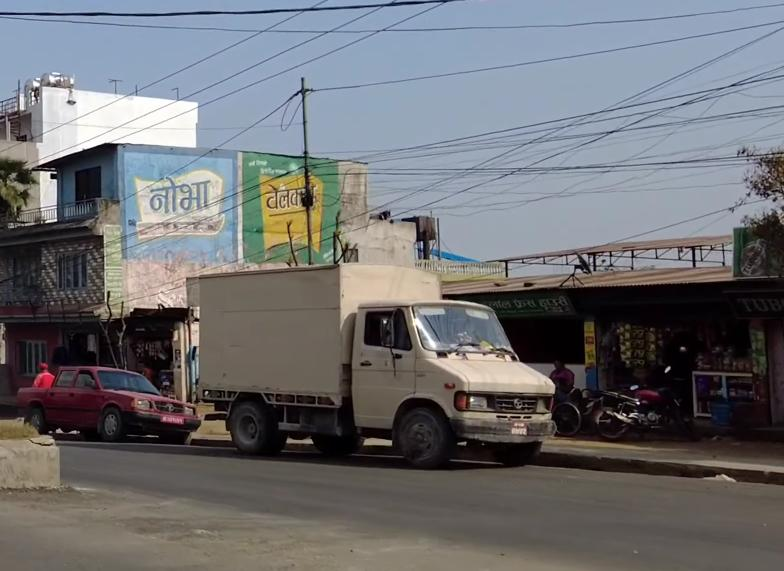SUV: (13, 359, 206, 453)
bike: (564, 353, 706, 451)
mini_truck: (191, 257, 562, 472)
